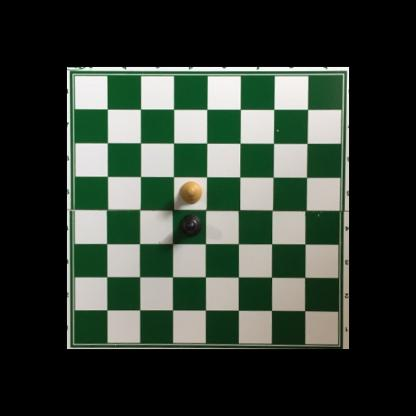black-pawn: (178, 214, 202, 239)
white-pawn: (178, 179, 203, 205)
